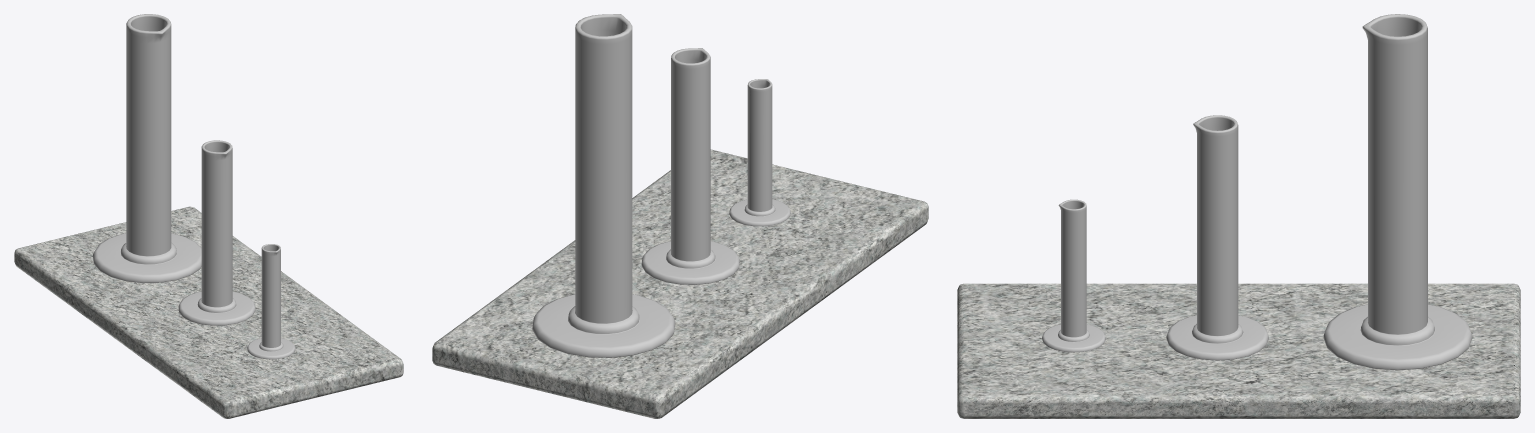
The model's file is GraduatedCylinders.fbx.
3 renders of one model, left to right at view 1: azimuth 30°, elevation 25°; view 2: azimuth 150°, elevation 25°; view 3: azimuth 270°, elevation 25°, orthographic. The views are drawn at different scales.
Parts seen in each view (by area): view 1: Granite, GraduatedCylinder_500mL, GraduatedCylinder_250mL, GraduatedCylinder_100mL; view 2: Granite, GraduatedCylinder_500mL, GraduatedCylinder_250mL, GraduatedCylinder_100mL; view 3: Granite, GraduatedCylinder_500mL, GraduatedCylinder_250mL, GraduatedCylinder_100mL.
Part boxes in pixels (x1,y1,x2,y2): Granite: (14,206,403,418); GraduatedCylinder_500mL: (93,14,201,283); GraduatedCylinder_250mL: (178,140,255,325); GraduatedCylinder_100mL: (247,244,295,359); Granite: (432,149,928,418); GraduatedCylinder_500mL: (532,14,675,357); GraduatedCylinder_250mL: (641,48,739,284); GraduatedCylinder_100mL: (729,79,790,226); Granite: (957,283,1520,418); GraduatedCylinder_500mL: (1323,14,1472,370); GraduatedCylinder_250mL: (1166,115,1268,360); GraduatedCylinder_100mL: (1042,199,1105,352).
Bounding box in the file's own units: 383 × 518 × 784.
